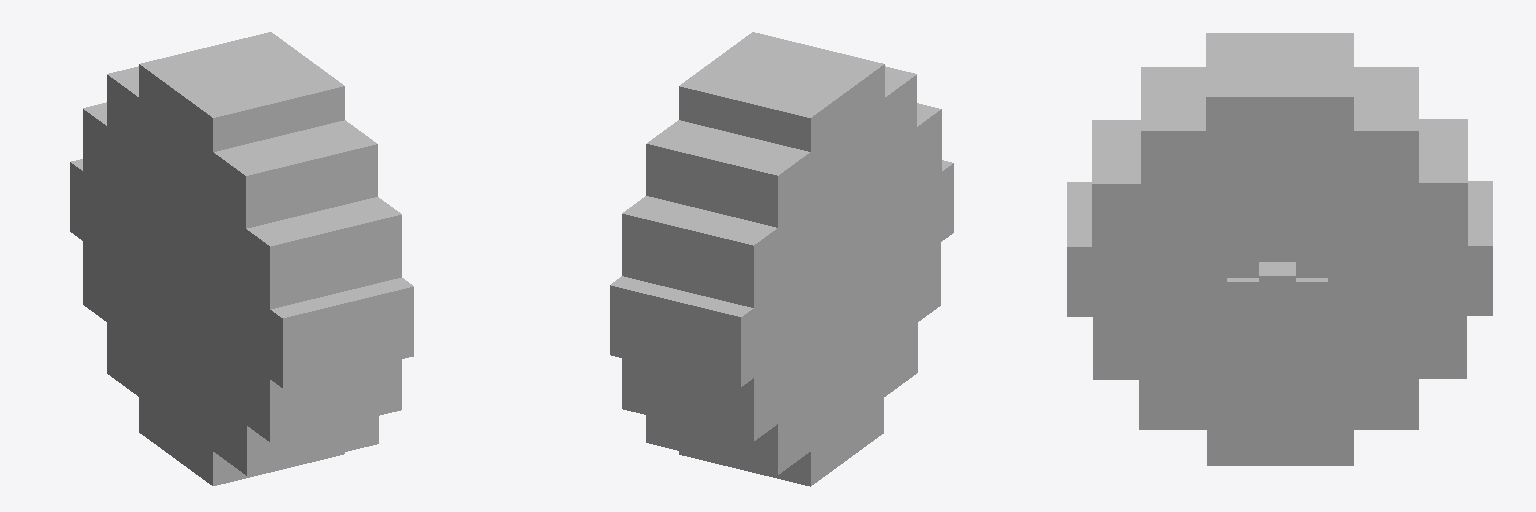
File: rueda Carrito.obj
The picture shows the model from 3 angles: view 1: azimuth 30°, elevation 25°; view 2: azimuth 150°, elevation 25°; view 3: azimuth 270°, elevation 25°; orthographic projection.
Parts seen in each view (by area): view 1: Box1420; view 2: Box1420; view 3: Box1420.
Part boxes in pixels (x1,y1,x2,y2): Box1420: (70, 32, 413, 485); Box1420: (610, 32, 953, 486); Box1420: (1067, 33, 1492, 465).
Size of the model in its own units: 0.9396 by 2.08 by 2.17.